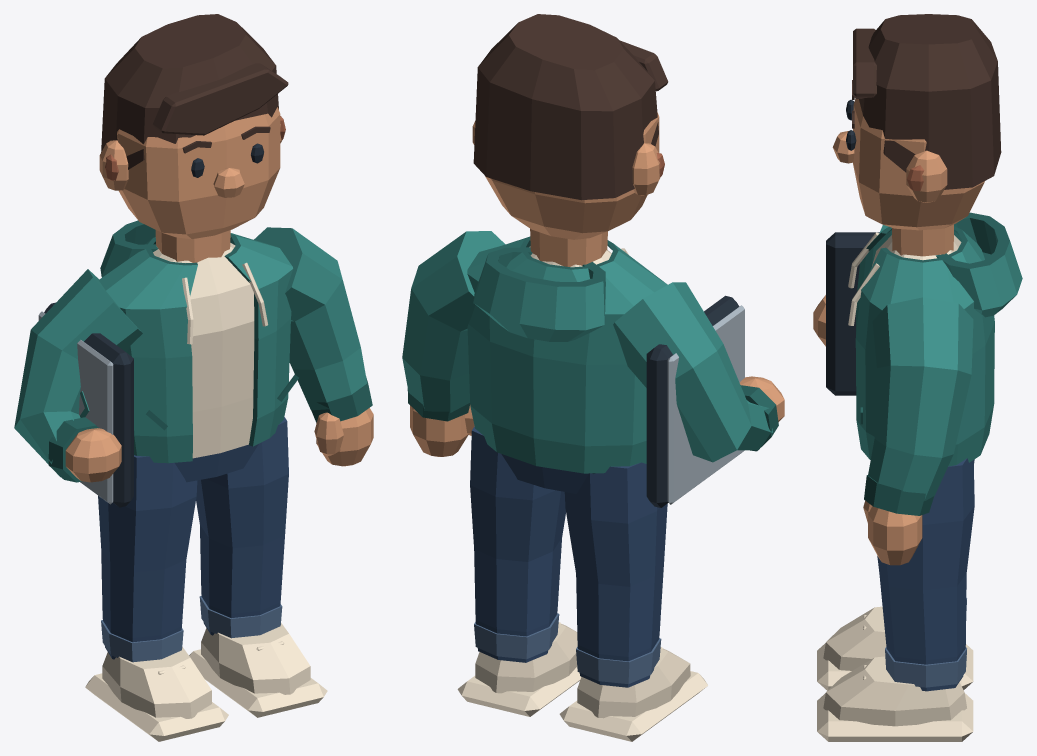
The model's file is copilot_human_developer_v01.glb.
The picture shows the model from 3 angles, left to right: view 1: azimuth 30°, elevation 25°; view 2: azimuth 150°, elevation 25°; view 3: azimuth 270°, elevation 25°; orthographic projection. The views are drawn at different scales.
Parts seen in each view (by area): view 1: casual_developer; view 2: casual_developer; view 3: casual_developer.
Part boxes in pixels (x1=…): casual_developer: x1=14, y1=14, x2=373, y2=741; casual_developer: x1=402, y1=14, x2=784, y2=741; casual_developer: x1=813, y1=14, x2=1022, y2=741.
Bounding box in the file's own units: 1.62 × 2.98 × 0.8299.
Materials: 1 (1 with a texture image).
